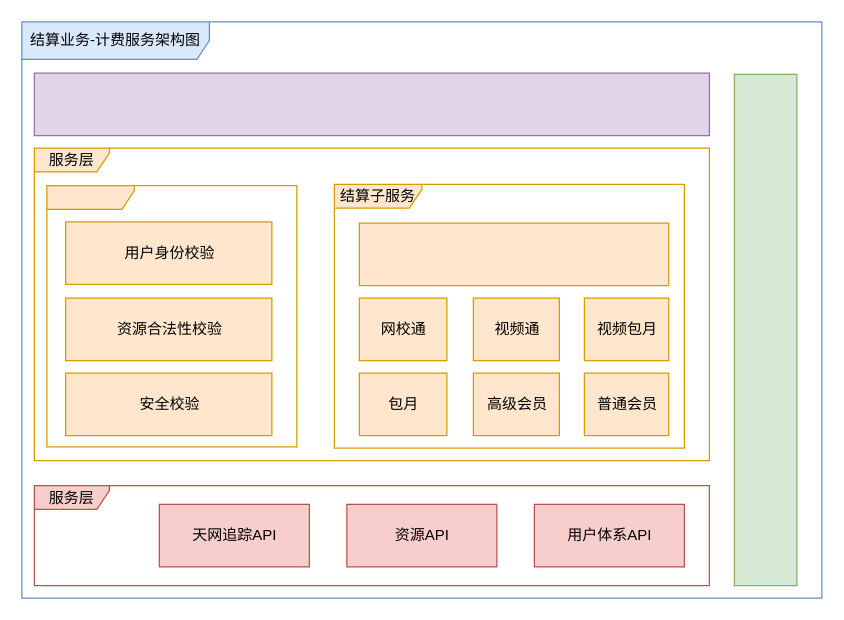
This 844x620 diagram has some shape labels left out. Here are the shapes that lost their labels. From the top down, the box of each, then its label:
(33, 72, 709, 136): 接口层
(358, 222, 669, 286): 分配算法
(46, 184, 297, 447): 校验子服务
(733, 73, 797, 586): 公共设施层(日志、性能分析)
